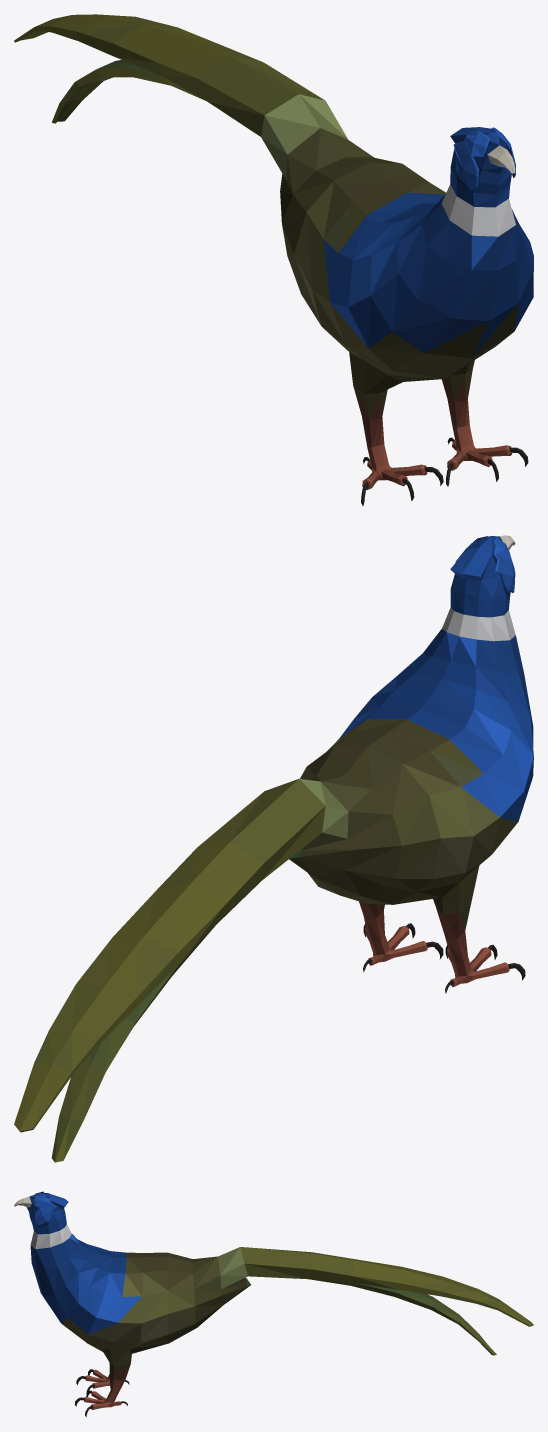
File: peafowl.glb
3 renders of one model, top to bottom at view 1: azimuth 30°, elevation 25°; view 2: azimuth 150°, elevation 25°; view 3: azimuth 270°, elevation 25°, orthographic. The views are drawn at different scales.
Visible parts, largest first — view 1: zoo-peafowl; view 2: zoo-peafowl; view 3: zoo-peafowl.
Part boxes in pixels (left/top/right/bottom): zoo-peafowl: left=14, top=14, right=533, bottom=505; zoo-peafowl: left=14, top=535, right=533, bottom=1162; zoo-peafowl: left=14, top=1191, right=533, bottom=1416.
Bounding box in the file's own units: 0.4471 × 0.95 × 2.18.
